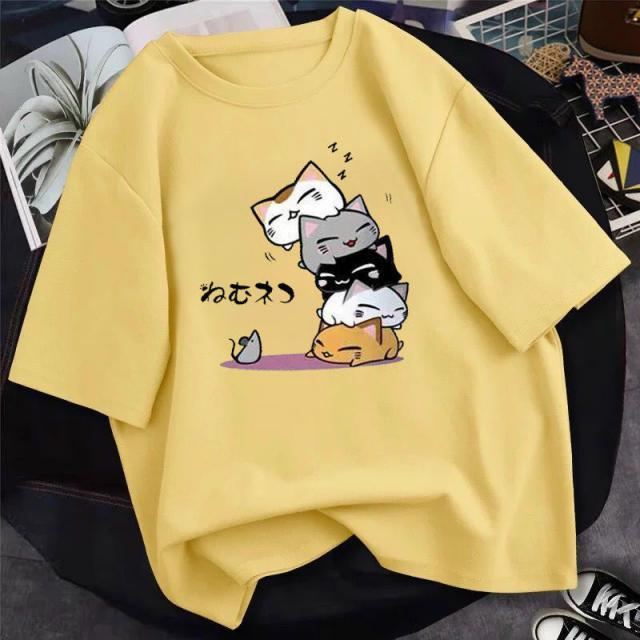Shirt: (9, 10, 633, 632)
